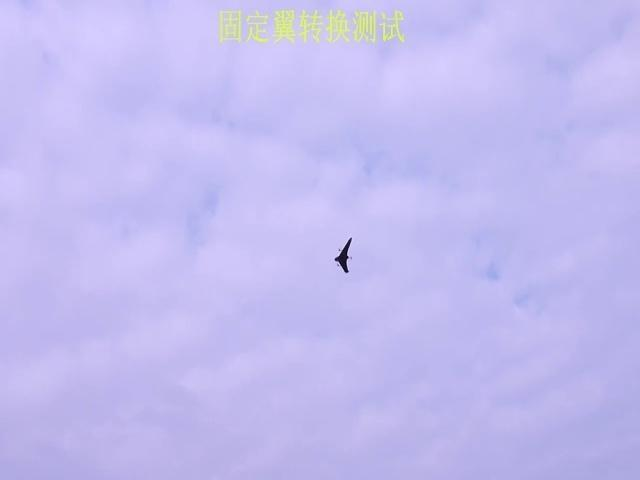Airplane: (334, 237, 353, 274)
